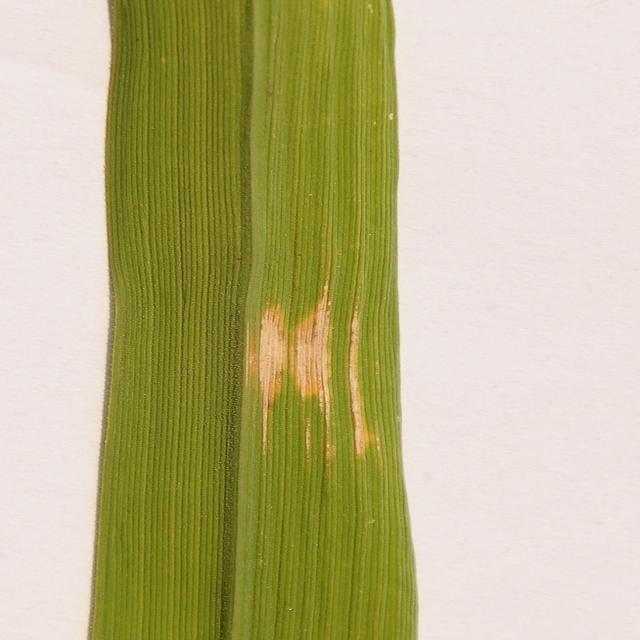Bacterial_Leaf_Blight: (260, 246, 406, 608)
